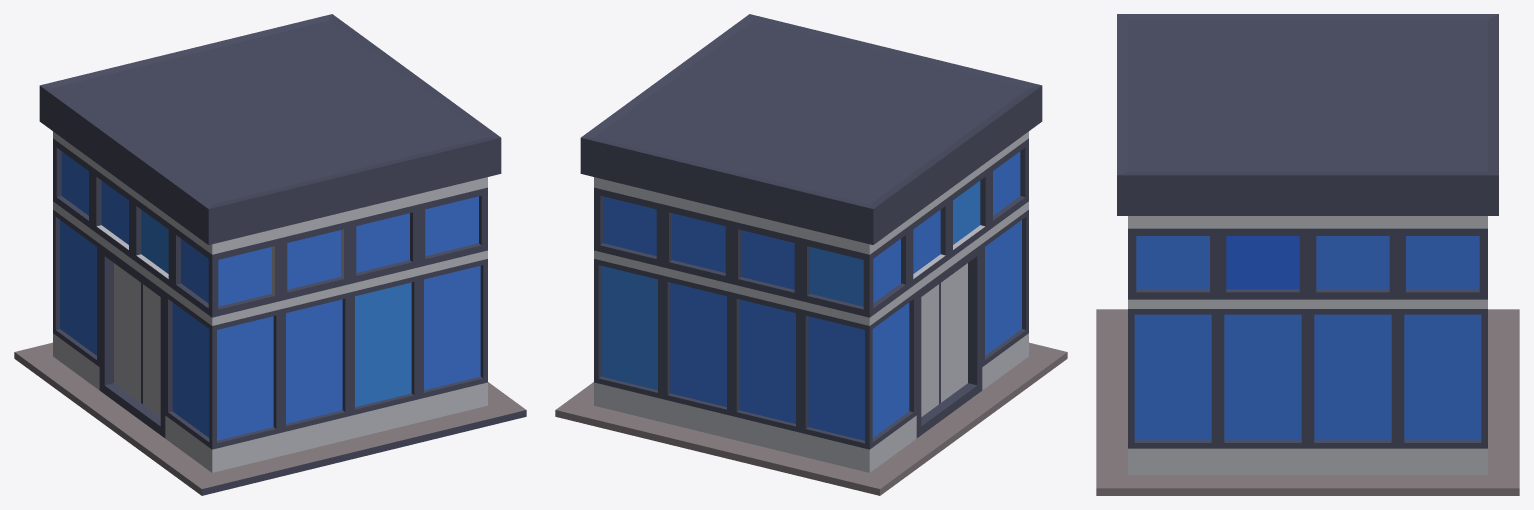
Rendered from building_1x1_6_g.glb.
The picture shows the model from 3 angles, left to right: view 1: azimuth 30°, elevation 25°; view 2: azimuth 150°, elevation 25°; view 3: azimuth 270°, elevation 25°; orthographic projection. The views are drawn at different scales.
Visible parts, largest first — view 1: FirstFloor; view 2: FirstFloor; view 3: FirstFloor.
Boxes of the visible parts, x1,y1,x2,y2 form: FirstFloor: [14, 14, 526, 495]; FirstFloor: [555, 14, 1067, 495]; FirstFloor: [1096, 14, 1519, 495].
Size of the model in its own units: 2 by 1.63 by 2.
